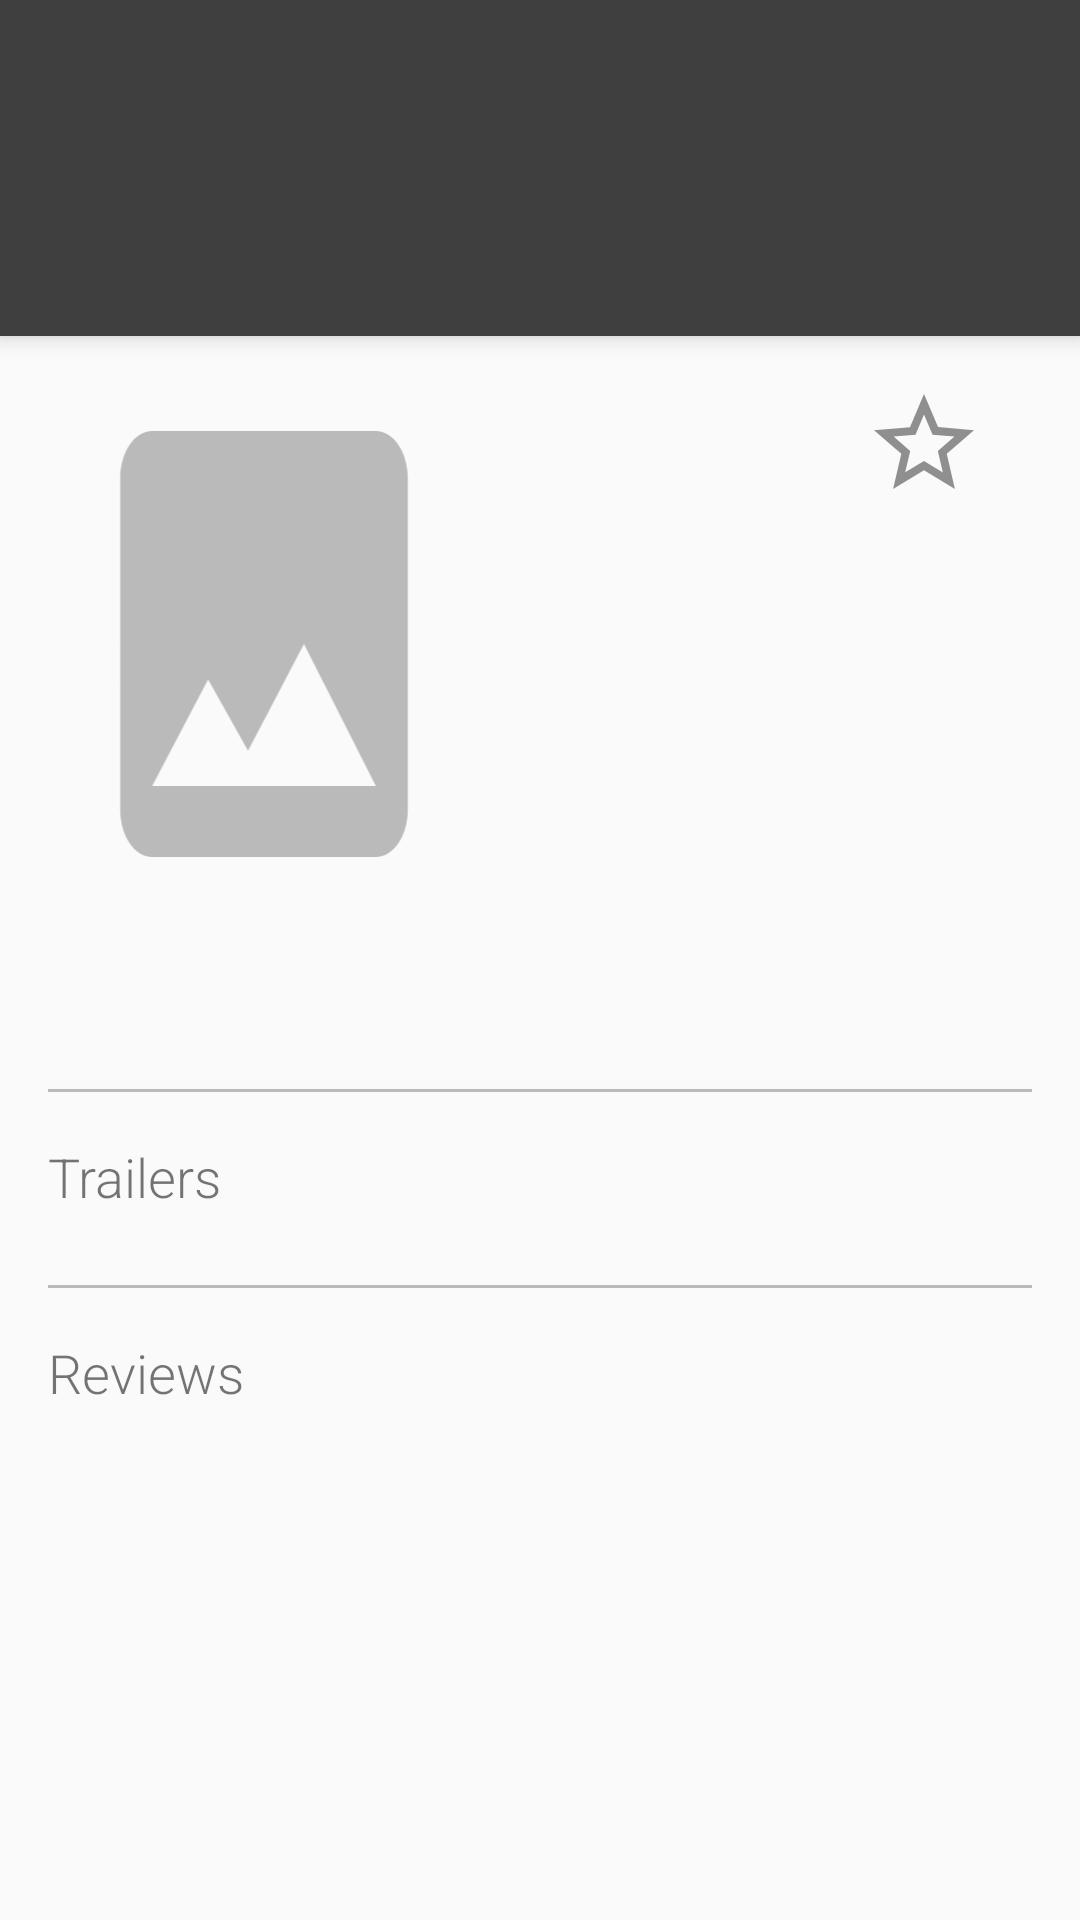

Where to tap for icons on this 1080w x 1920h app screen, as point (x, y):
favorite off: point (924, 442)
